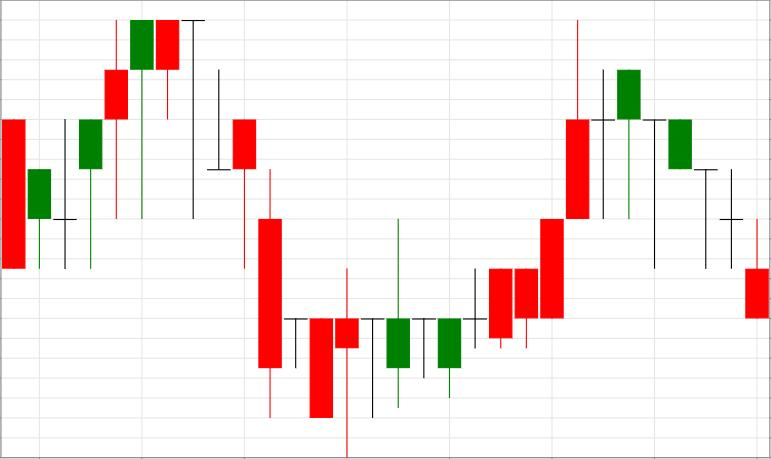hanging_man_fall: (490, 22, 641, 348), (3, 20, 152, 268)
